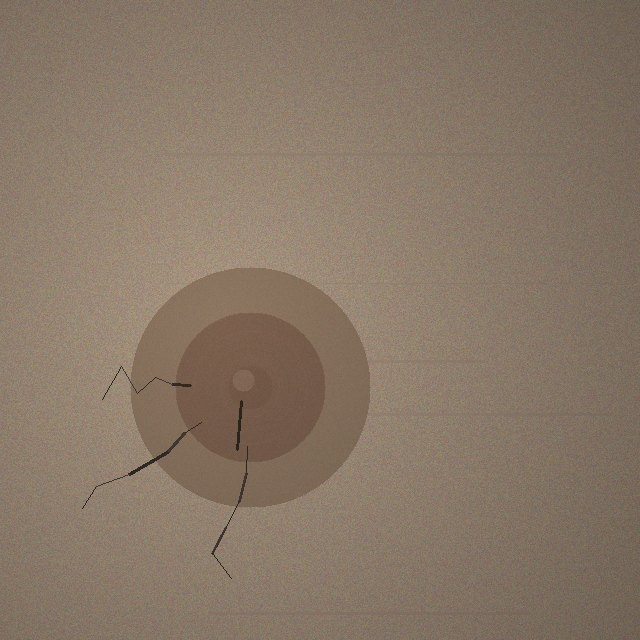crack: (130, 267, 370, 507)
